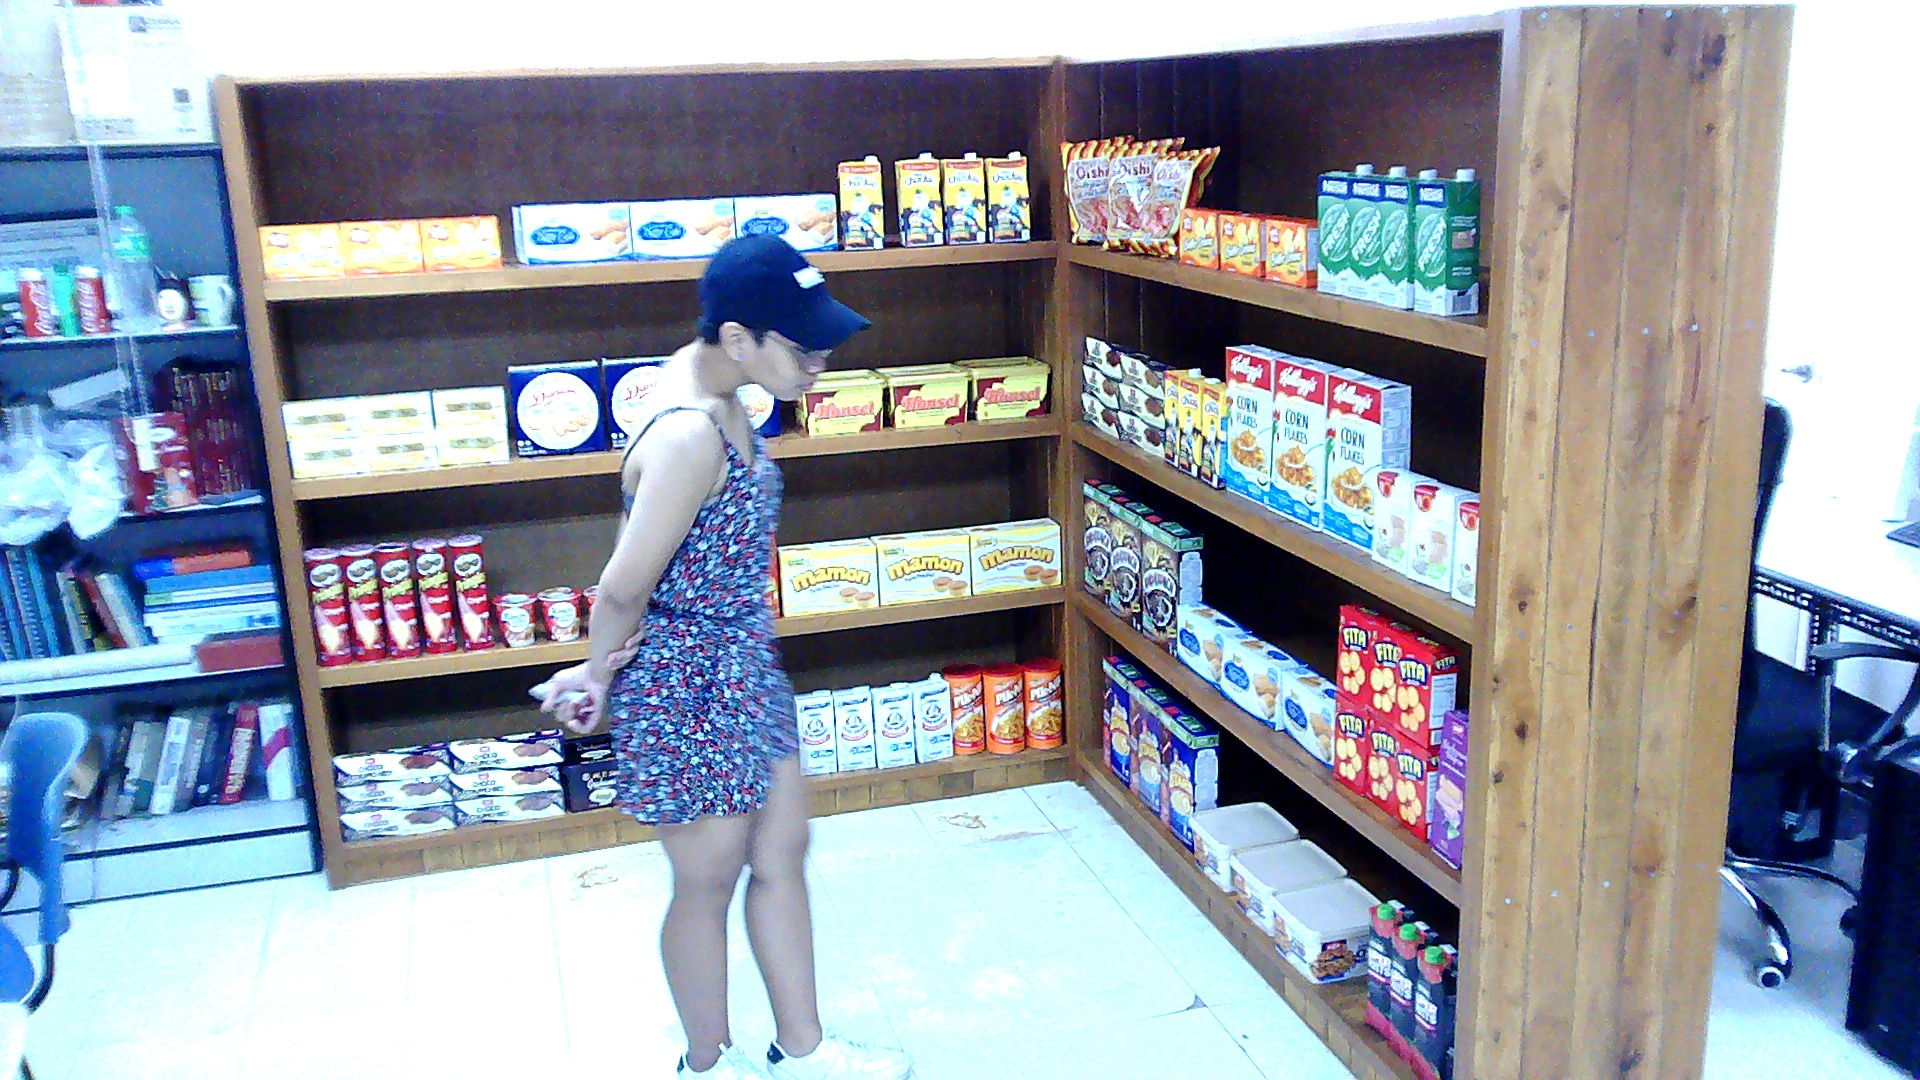Bear brand: (1413, 169, 1479, 315), (1347, 164, 1407, 301), (1380, 168, 1437, 308), (1317, 161, 1371, 294), (908, 673, 953, 763), (830, 684, 875, 770), (870, 681, 915, 767), (795, 690, 837, 773)
Buttercake: (1218, 630, 1308, 729), (509, 200, 632, 265), (621, 195, 735, 260), (1175, 601, 1250, 691), (729, 191, 837, 252), (1281, 666, 1335, 769)
Butterlicious: (257, 223, 344, 279), (339, 218, 423, 274), (420, 214, 501, 270), (1218, 211, 1284, 276), (1179, 206, 1239, 267), (1266, 216, 1314, 286)
Camomille: (278, 395, 359, 440), (357, 389, 432, 434), (287, 437, 362, 477), (431, 385, 506, 425), (435, 423, 507, 463), (359, 432, 434, 470)
Choco Crunchies: (446, 726, 563, 771), (453, 788, 567, 828), (449, 761, 560, 799), (1119, 351, 1179, 398), (1118, 409, 1163, 456), (1083, 336, 1134, 376), (1118, 380, 1163, 425), (1083, 362, 1119, 405), (1080, 394, 1116, 434)
Chocolate Chips: (1269, 877, 1380, 983), (1230, 836, 1347, 935), (1187, 801, 1298, 891)
Chuckie: (894, 151, 942, 245), (939, 151, 987, 243), (836, 155, 881, 249), (984, 151, 1029, 243), (1179, 373, 1218, 476), (1164, 368, 1200, 465), (1200, 380, 1224, 488)
Danisa: (507, 359, 606, 456), (600, 353, 672, 447)
Fita: (1398, 632, 1458, 747), (1368, 614, 1422, 729), (1335, 601, 1386, 709), (1394, 731, 1439, 841), (1332, 693, 1368, 796), (1365, 711, 1395, 819)
Grahams: (330, 740, 450, 785), (336, 801, 456, 841), (558, 731, 618, 810), (332, 774, 449, 812)
Hansel: (873, 360, 969, 425), (954, 353, 1050, 416), (792, 369, 885, 434)
Head: (633, 203, 909, 441)
Honey Stars: (1160, 701, 1217, 852), (1127, 677, 1178, 819), (1100, 652, 1145, 787)
Kellogg Corn Flakes: (1323, 369, 1410, 553), (1269, 355, 1344, 531), (1224, 342, 1290, 506)
Kimchi Noodles: (488, 592, 533, 646), (537, 587, 579, 641)
Koko Krunch: (1139, 511, 1202, 657), (1107, 492, 1155, 629), (1083, 477, 1122, 605)
Mamon: (777, 537, 879, 616), (869, 526, 968, 605), (963, 518, 1059, 594)
Oishi Prawn: (1128, 146, 1221, 256), (1100, 135, 1181, 252), (1059, 133, 1134, 243)
Pik-nik: (942, 662, 984, 754), (981, 662, 1023, 754), (1020, 657, 1062, 749)
Pringles: (299, 546, 350, 665), (339, 540, 387, 662), (410, 535, 455, 652), (374, 542, 419, 657), (446, 533, 491, 648)
Super Fruits: (1386, 918, 1446, 1064), (1365, 897, 1419, 1037), (1410, 942, 1458, 1077)
Wafer: (1427, 709, 1466, 871)
iHop: (1407, 478, 1473, 591), (1371, 470, 1434, 576), (1449, 490, 1479, 605)
